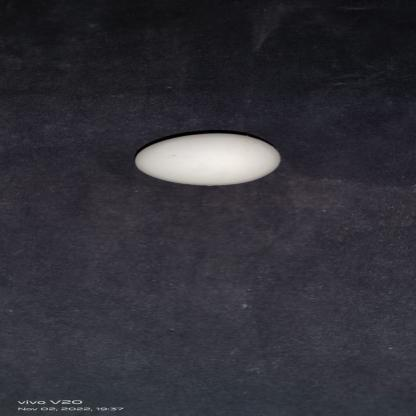egg: (135, 132, 288, 187)
